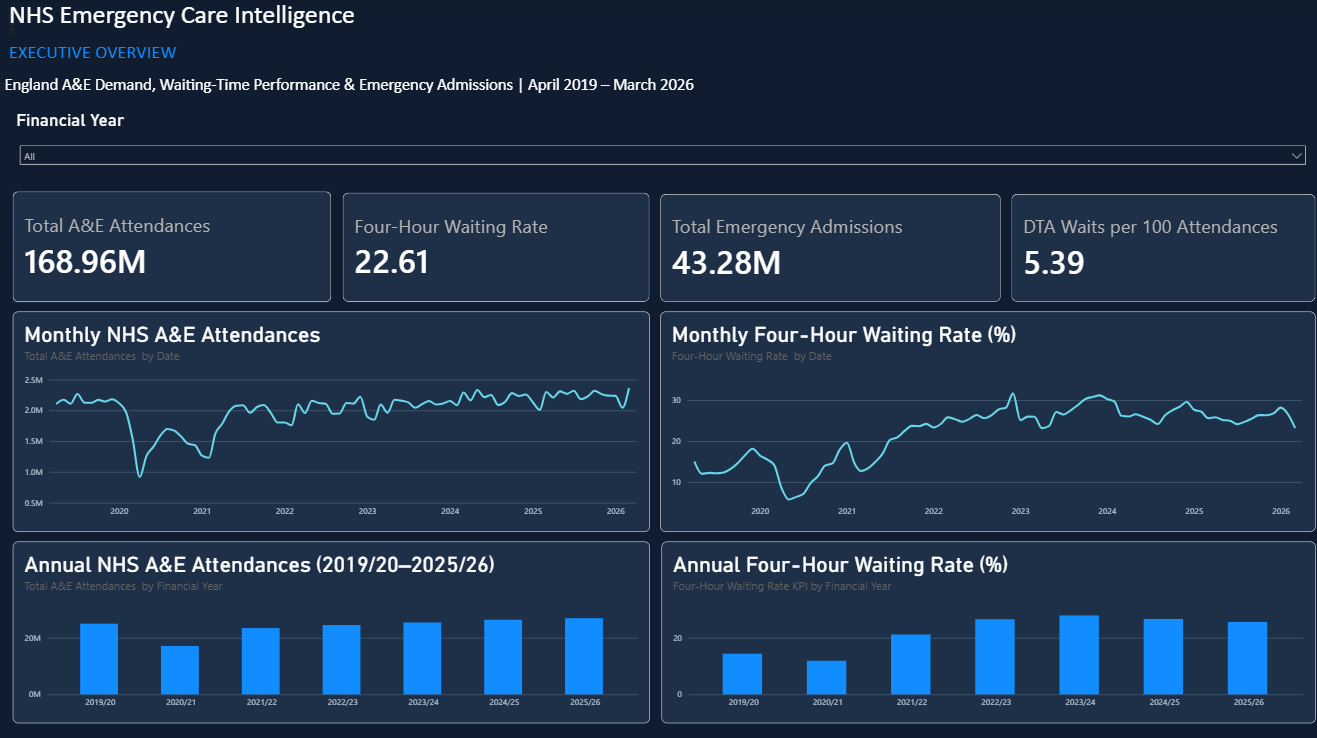

This screenshot's page, from the dashboard's own definition file:
{"tool":"powerbi","page":{"name":"Executive Overview","canvas":[1912,1080],"ordinal":0},"visuals":[{"type":"cardVisual","fields":{"Data":["Fact_AE_Monthly.Total A&E Attendances KPI"]},"box":[20.6,277.9,461.1,160.5],"z":0},{"type":"cardVisual","fields":{"Data":["Fact_AE_Monthly.Four-Hour Waiting Rate KPI"]},"box":[498.1,279.9,444.6,158.5],"z":1000},{"type":"cardVisual","fields":{"Data":["Fact_AE_Monthly.DTA Waits per 100 Attendances KPI"]},"box":[1465.5,282,440.5,156.4],"z":2000},{"type":"cardVisual","fields":{"Data":["Fact_AE_Monthly.Total Emergency Admissions KPI"]},"box":[957.1,282,494,156.4],"z":3000},{"type":"slicer","title":"Financial Year","fields":{"Values":["Dim_Financial_Year.Financial Year"]},"box":[24.7,160.5,1871,98.8],"z":4000},{"type":"lineChart","title":"Monthly NHS A&E Attendances","fields":{"Category":["Fact_AE_Monthly.Date"],"Y":["Fact_AE_Monthly.Total A&E Attendances KPI"]},"box":[20.6,452.8,922.1,319],"z":5000},{"type":"lineChart","title":"Monthly Four-Hour Waiting Rate (%)","fields":{"Category":["Fact_AE_Monthly.Date"],"Y":["Fact_AE_Monthly.Four-Hour Waiting Rate KPI"]},"box":[957.1,452.8,948.9,319],"z":6000},{"type":"clusteredColumnChart","title":"Annual NHS A&E Attendances (2019/20–2025/26)","fields":{"Category":["Dim_Financial_Year.Financial Year"],"Y":["Fact_AE_Monthly.Total A&E Attendances KPI"]},"box":[20.6,786.3,922.1,263.5],"z":7000},{"type":"clusteredColumnChart","title":"Annual Four-Hour Waiting Rate (%)","fields":{"Category":["Dim_Financial_Year.Financial Year"],"Y":["Fact_AE_Monthly.Four-Hour Waiting Rate KPI"]},"box":[959.2,786.3,946.8,263.5],"z":8000},{"type":"textbox","box":[14.4,0,1167.1,53.5],"z":9000},{"type":"textbox","box":[14.4,26.8,349.9,65.9],"z":10000},{"type":"textbox","box":[0,109.1,1041.5,37],"z":11000}]}

Visuals, with their boxes in screenshot pixels (x1, y1, x2, y2), scaled from the page's 1912x1080 canvas onto the 1317x738 screenshot:
cardVisual - Fact_AE_Monthly.Total A&E Attendances KPI: l=14, t=190, r=332, b=300
cardVisual - Fact_AE_Monthly.Four-Hour Waiting Rate KPI: l=343, t=191, r=649, b=300
cardVisual - Fact_AE_Monthly.DTA Waits per 100 Attendances KPI: l=1009, t=193, r=1313, b=300
cardVisual - Fact_AE_Monthly.Total Emergency Admissions KPI: l=659, t=193, r=1000, b=300
"Financial Year" slicer: l=17, t=110, r=1306, b=177
"Monthly NHS A&E Attendances" lineChart: l=14, t=309, r=649, b=527
"Monthly Four-Hour Waiting Rate (%)" lineChart: l=659, t=309, r=1313, b=527
"Annual NHS A&E Attendances (2019/20–2025/26)" clusteredColumnChart: l=14, t=537, r=649, b=717
"Annual Four-Hour Waiting Rate (%)" clusteredColumnChart: l=661, t=537, r=1313, b=717
textbox: l=10, t=0, r=814, b=37
textbox: l=10, t=18, r=251, b=63
textbox: l=0, t=75, r=717, b=100
